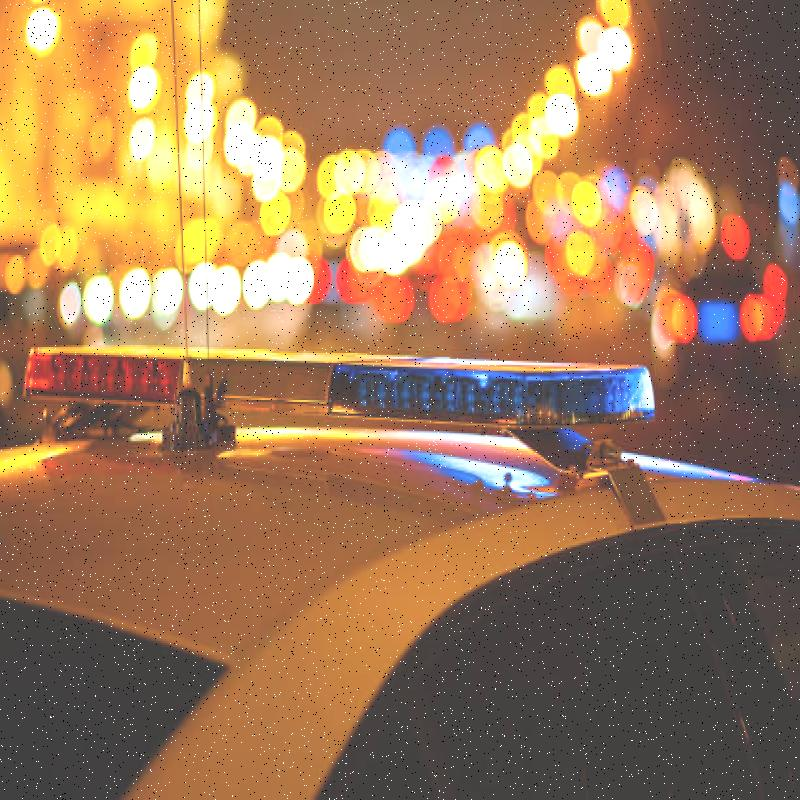AmbulanceSiren: (0, 298, 693, 483)
